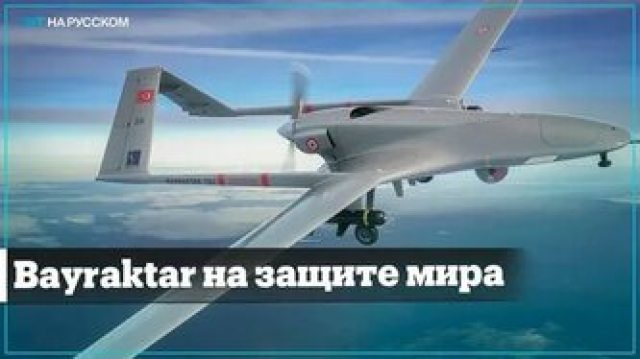military drone: (72, 0, 640, 359)
